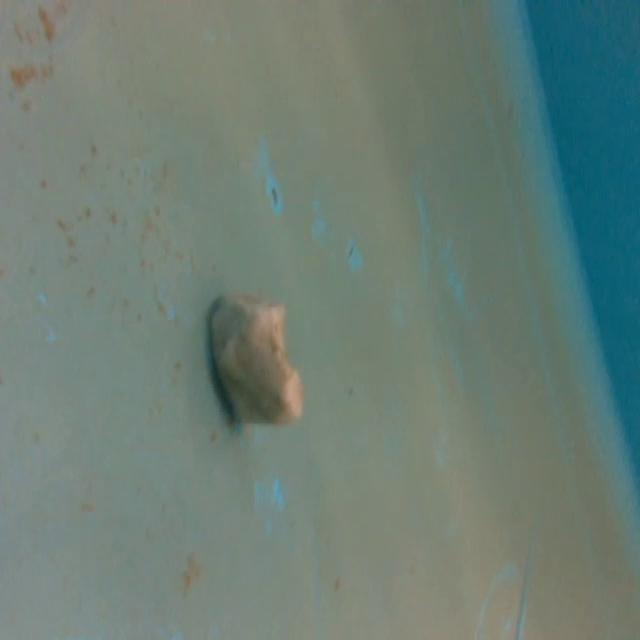rock: (206, 289, 310, 435)
